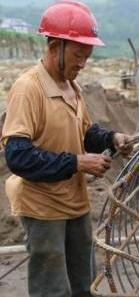hard-hat: (35, 0, 106, 46)
